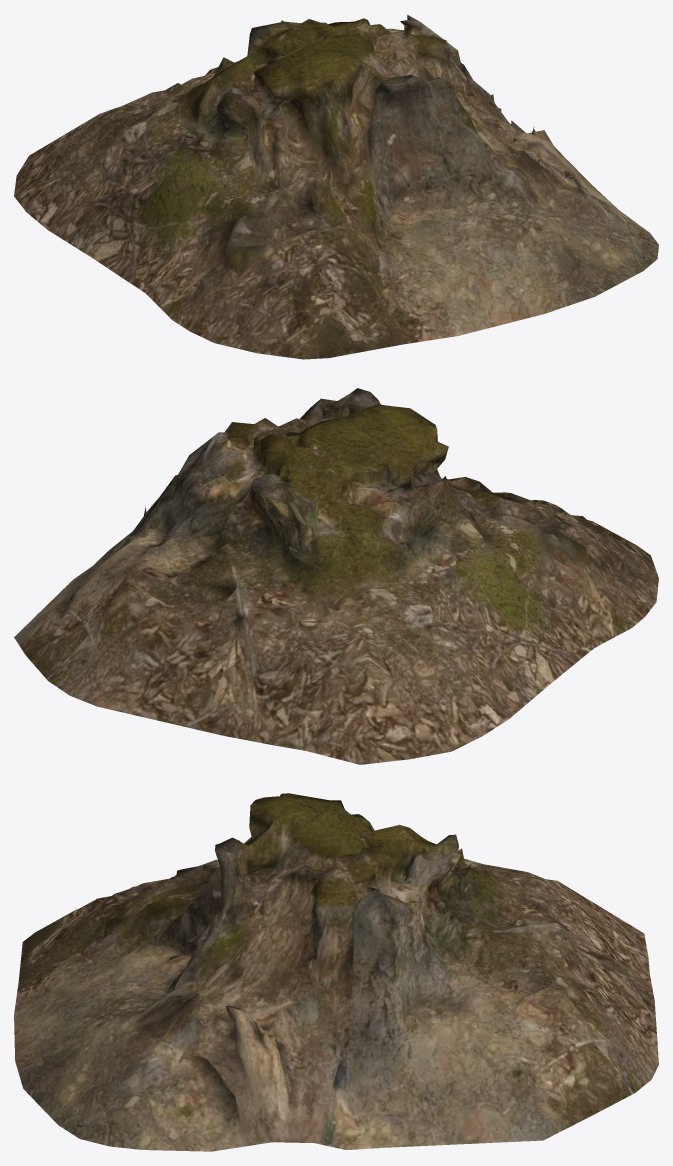
Rendered from tree_stump_01.glb.
3 renders of one model, top to bottom at view 1: azimuth 30°, elevation 25°; view 2: azimuth 150°, elevation 25°; view 3: azimuth 270°, elevation 25°, orthographic. The views are drawn at different scales.
Visible parts, largest first — view 1: tree_stump_01; view 2: tree_stump_01; view 3: tree_stump_01.
Part boxes in pixels (bbox=[...]): tree_stump_01: bbox=[14, 14, 658, 359]; tree_stump_01: bbox=[14, 388, 658, 764]; tree_stump_01: bbox=[14, 793, 658, 1151].
Size of the model in its own units: 1.43 by 0.5709 by 1.59.
Materials: 1 (1 with a texture image).
